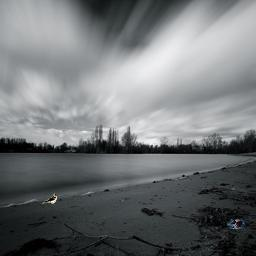Crow: (227, 219, 245, 229)
Swallow: (42, 193, 57, 204)
